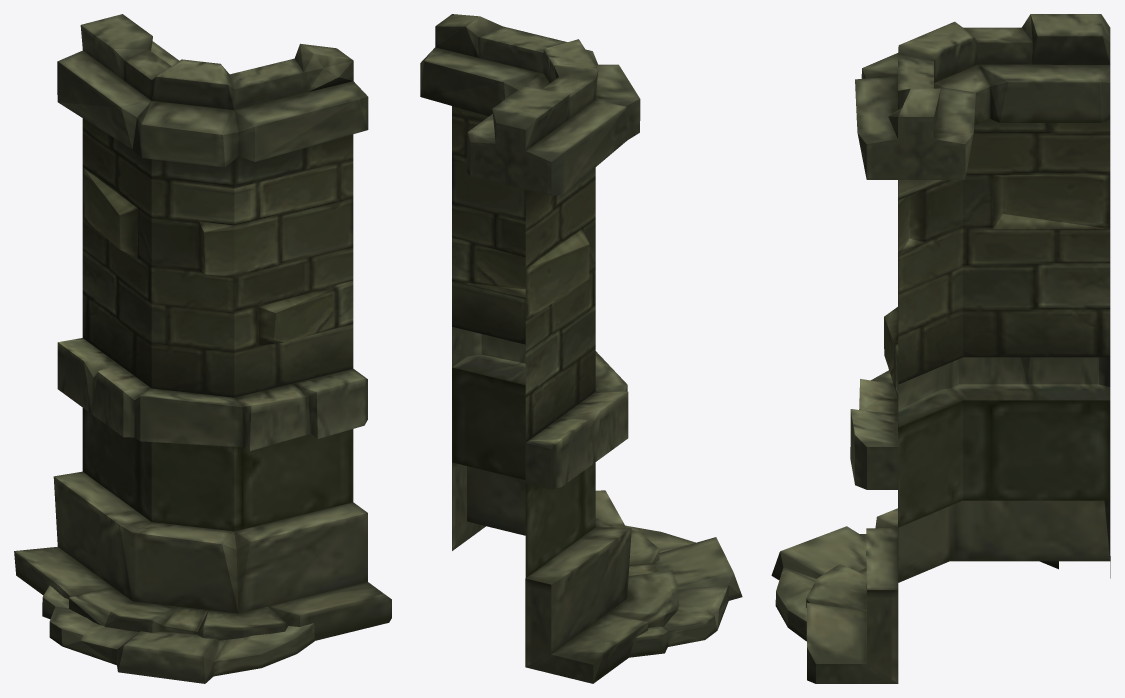
Rendered from wall_corner_convex.fbx.
The picture shows the model from 3 angles, left to right: view 1: azimuth 30°, elevation 25°; view 2: azimuth 150°, elevation 25°; view 3: azimuth 270°, elevation 25°; orthographic projection. The views are drawn at different scales.
Visible parts, largest first — view 1: wall_corner_convex; view 2: wall_corner_convex; view 3: wall_corner_convex.
Boxes of the visible parts, x1=… form: wall_corner_convex: x1=14, y1=14, x2=391, y2=683; wall_corner_convex: x1=420, y1=14, x2=742, y2=683; wall_corner_convex: x1=771, y1=14, x2=1110, y2=683.
Bounding box in the file's own units: 232 × 433 × 230.
